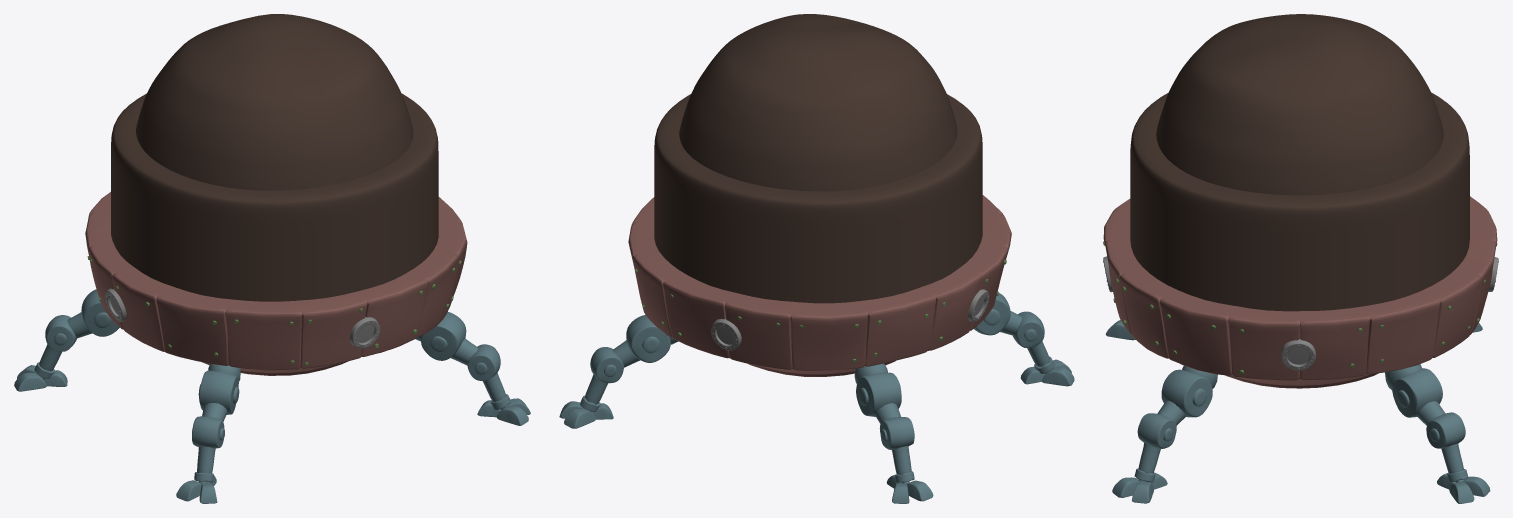
Rendered from BaseVarOne_OBJTest.obj.
3 views of the same model, side by side, from view 1: azimuth 30°, elevation 25°; view 2: azimuth 150°, elevation 25°; view 3: azimuth 270°, elevation 25° (orthographic). The views are drawn at different scales.
Visible parts, largest first — view 1: VarOne_group19_pCube72; view 2: VarOne_group19_pCube72; view 3: VarOne_group19_pCube72.
Part boxes in pixels (x1,y1,x2,y2): VarOne_group19_pCube72: (14,14,530,503); VarOne_group19_pCube72: (559,14,1074,503); VarOne_group19_pCube72: (1103,14,1498,503).
Bounding box in the file's own units: 19.48 × 18.62 × 17.51.
